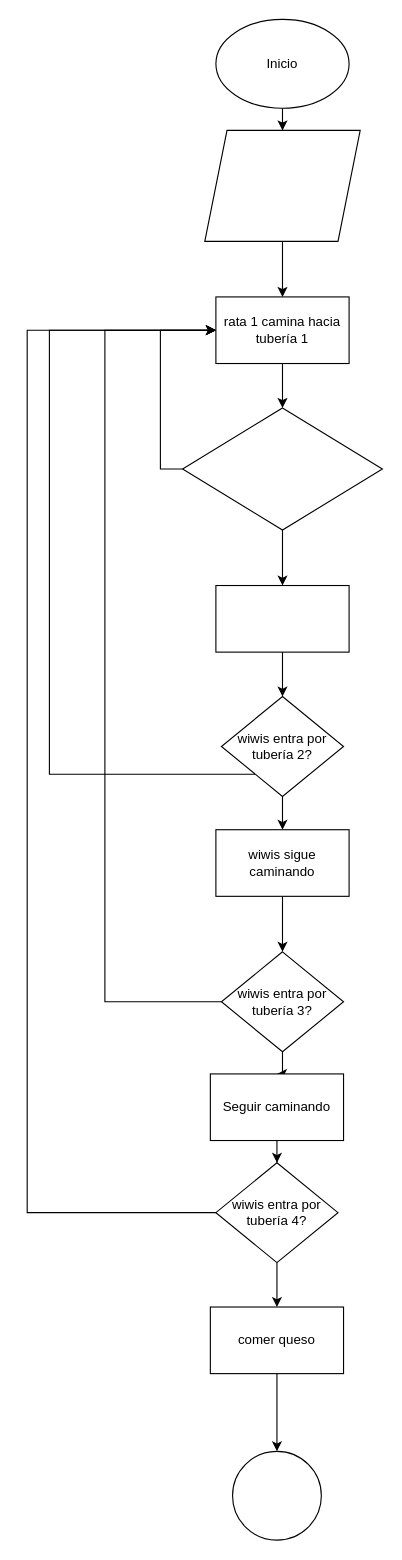
The diagram is 402 pixels wide and 1560 high, and some of its shapes have lost their labels. Here are the shapes that lost their labels. From the top down, the centre of each, then its label:
pixel 282 185: Wiwis = rata 1 tubería 1 tubería 2 tubería 3 tubería 4
pixel 281 468: wiwis entra por la tubería 1?
pixel 282 618: seguir caminando a la siguiente tuberia
pixel 276 1495: FIN
